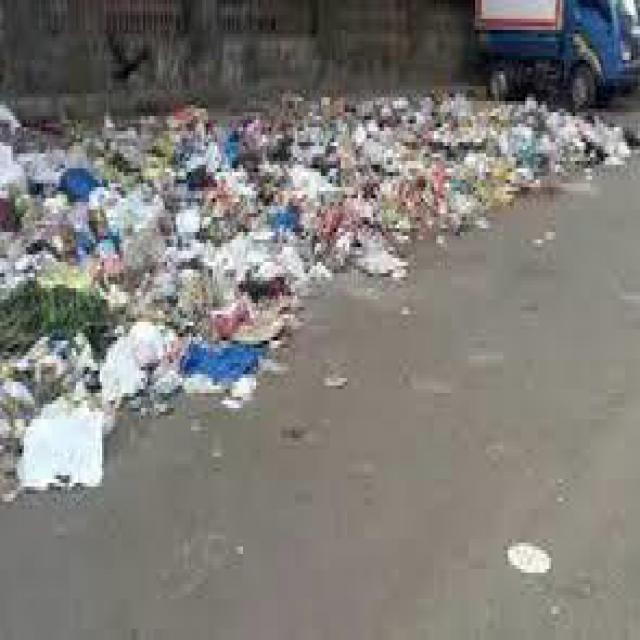garbage: (106, 127, 278, 382), (0, 112, 98, 476), (284, 101, 428, 251), (434, 94, 599, 187)
